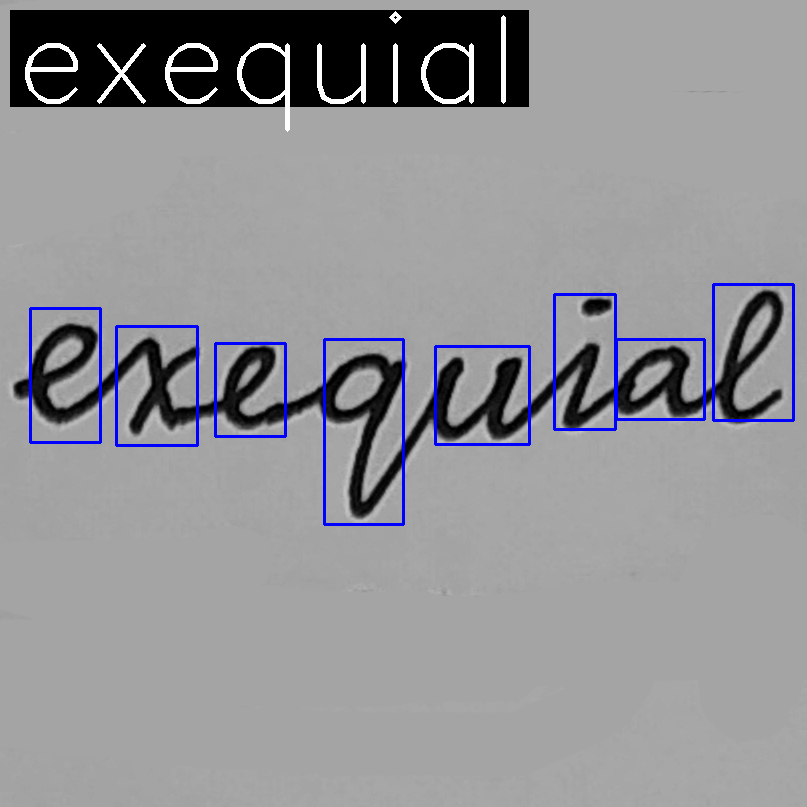a: (614, 342, 696, 424)
e: (23, 314, 104, 431), (219, 339, 282, 436)
i: (558, 293, 618, 438)
l: (713, 285, 790, 431)
q: (310, 350, 411, 522)
u: (427, 348, 526, 450)
x: (122, 332, 205, 442)
